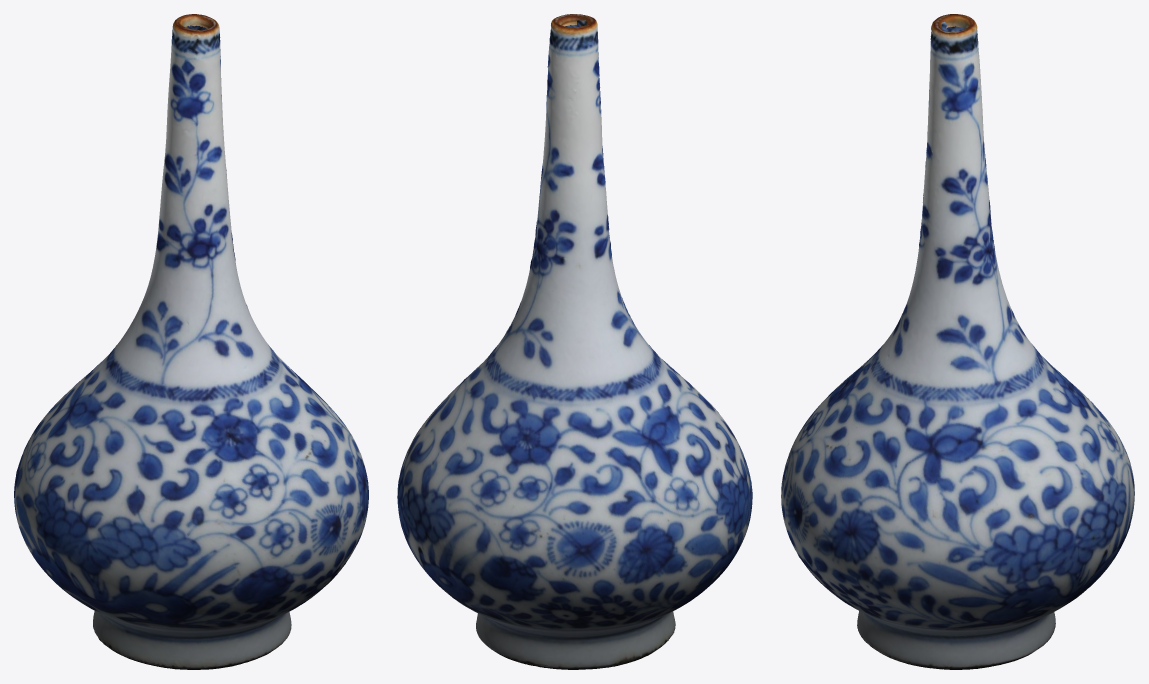
Rendered from bottle-shaped-vase.glb.
3 views of the same model, side by side, from view 1: azimuth 30°, elevation 25°; view 2: azimuth 150°, elevation 25°; view 3: azimuth 270°, elevation 25° (orthographic).
Visible parts, largest first — view 1: mesh_n3d; view 2: mesh_n3d; view 3: mesh_n3d.
Boxes of the visible parts, bbox=[...] form: mesh_n3d: bbox=[14, 14, 368, 669]; mesh_n3d: bbox=[397, 14, 752, 669]; mesh_n3d: bbox=[781, 14, 1134, 669].
Bounding box in the file's own units: 0.1037 × 0.1966 × 0.1034.
1 material, 1 textured.
